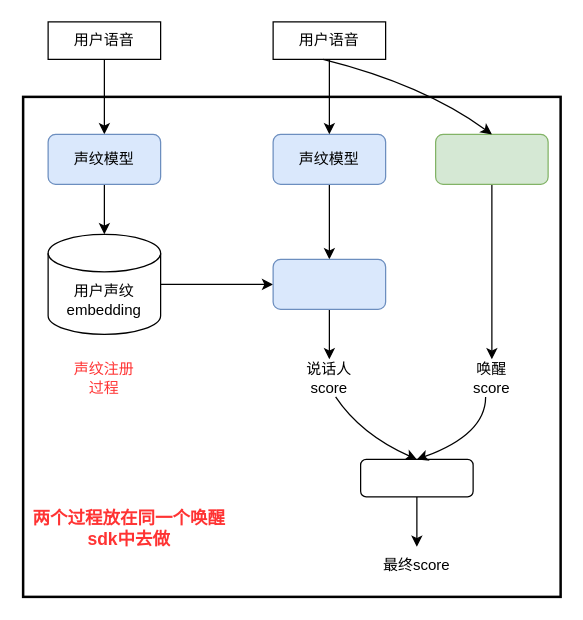
Some shapes in this 583 by 620 pixel diagram are drawn without their labels. The shapes that lost their labels are listed below. From the top down, each one's centre as x and y in pixels, then its label:
point (491, 158): 唤醒模型
point (329, 283): 说话人确认模块
point (416, 477): score加权
